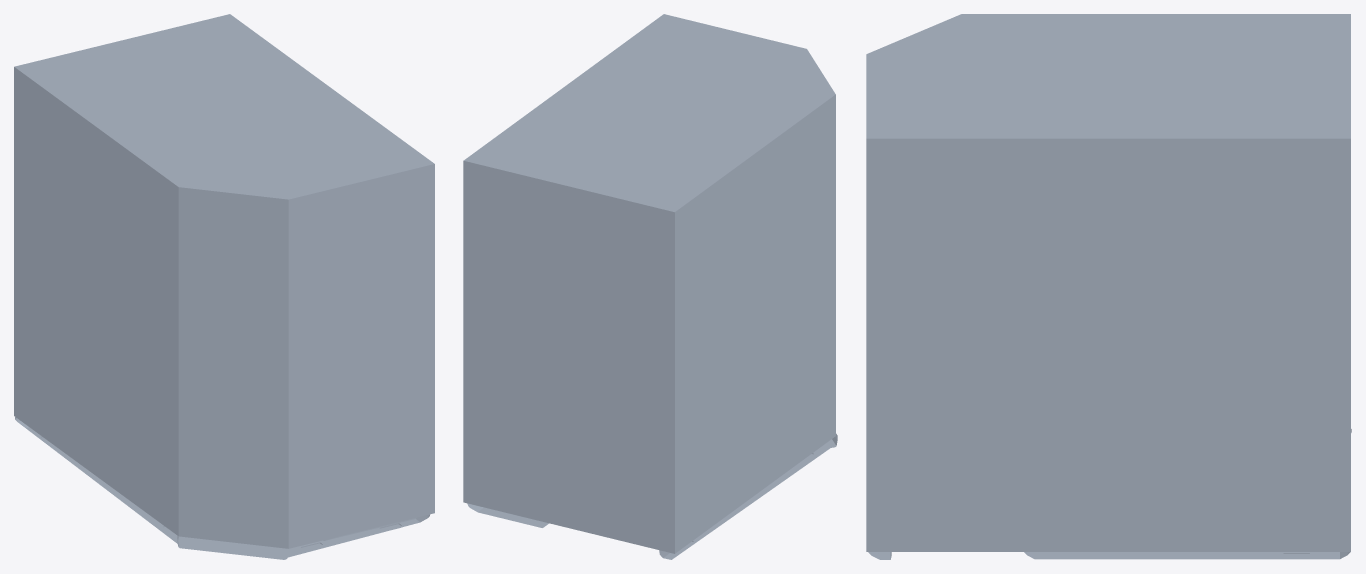
Rendered from y70-case.glb.
3 renders of one model, left to right at view 1: azimuth 30°, elevation 25°; view 2: azimuth 150°, elevation 25°; view 3: azimuth 270°, elevation 25°, orthographic. The views are drawn at different scales.
Parts seen in each view (by area): view 1: case (×2); view 2: case (×4); view 3: case (×3).
Boxes of the visible parts, x1,y1,x2,y2 form: case (×2): [14, 14, 434, 559]; case (×4): [463, 14, 837, 559]; case (×3): [866, 14, 1350, 559].
Size of the model in its own units: 289 by 461 by 474.
